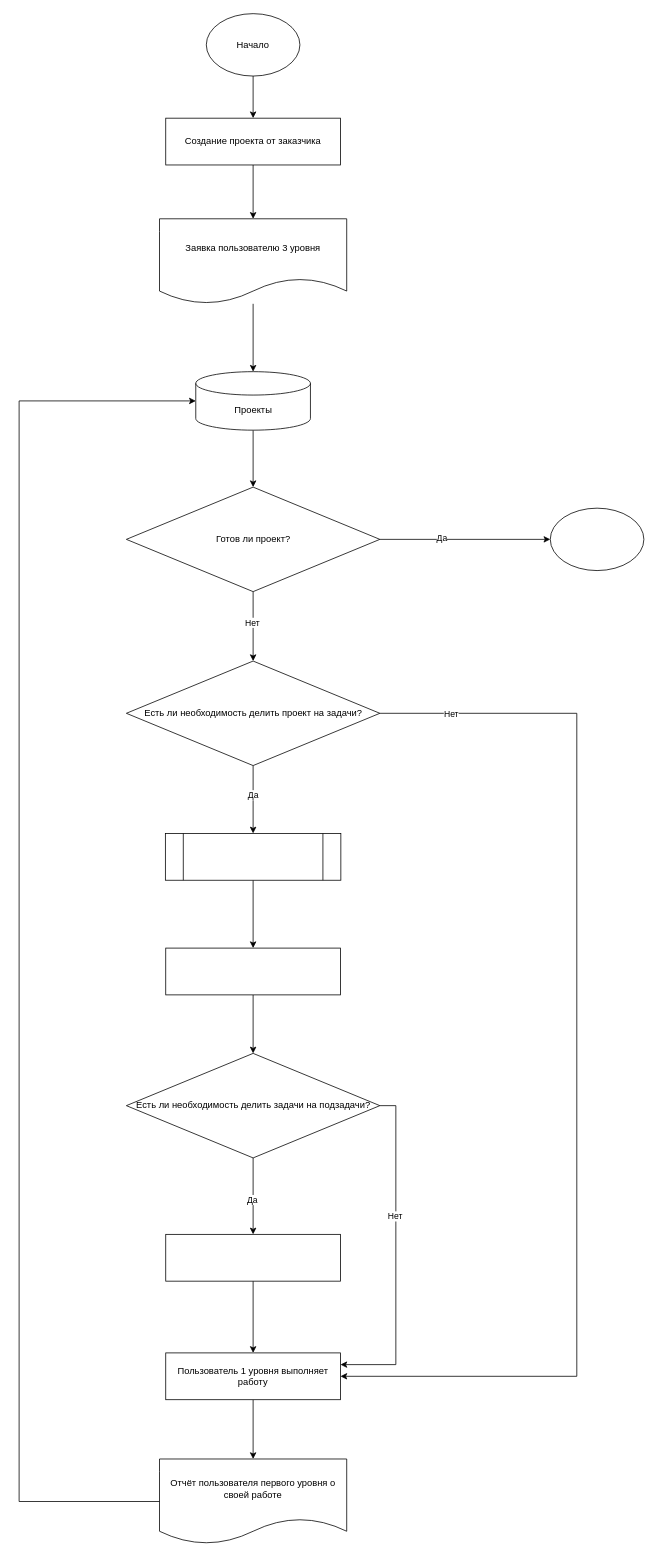
The diagram is 658 pixels wide and 1558 high, and some of its shapes have lost their labels. The shapes that lost their labels are listed below. From the top down, each one's centre as x and y in pixels, then its label:
point (597, 539): Конец
point (253, 856): Мониторинг статуса проекта (В процентах)
point (252, 971): Пользователь 3 уровня делит проект на задачи
point (252, 1257): Пользователь 2 уровня делит задачи на подзадачи
